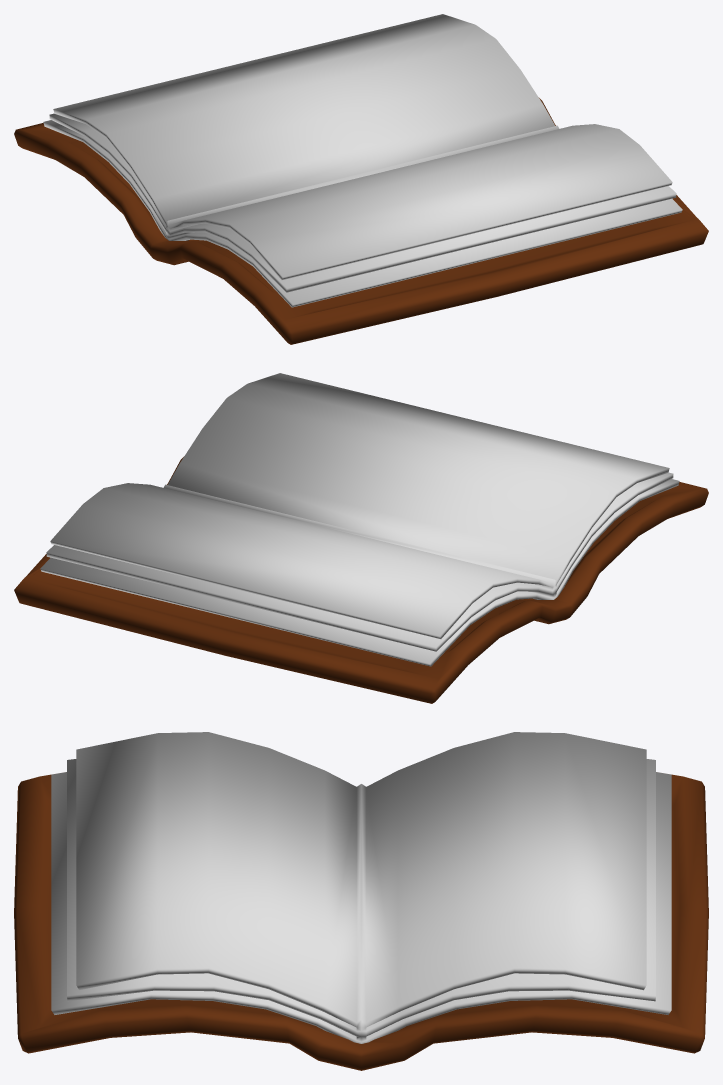
File: Book.glb
The picture shows the model from 3 angles, top to bottom: view 1: azimuth 30°, elevation 25°; view 2: azimuth 150°, elevation 25°; view 3: azimuth 270°, elevation 25°; orthographic projection. The views are drawn at different scales.
Visible parts, largest first — view 1: Plane.001, Plane; view 2: Plane.001, Plane; view 3: Plane.001, Plane.
Part boxes in pixels (left/top/right/bottom): Plane.001: left=43, top=14, right=682, bottom=307; Plane: left=14, top=98, right=708, bottom=344; Plane.001: left=40, top=373, right=679, bottom=666; Plane: left=14, top=457, right=708, bottom=703; Plane.001: left=51, top=732, right=671, bottom=1043; Plane: left=14, top=774, right=708, bottom=1070.
Bounding box in the file's own units: 2.21 × 0.3951 × 2.54.
